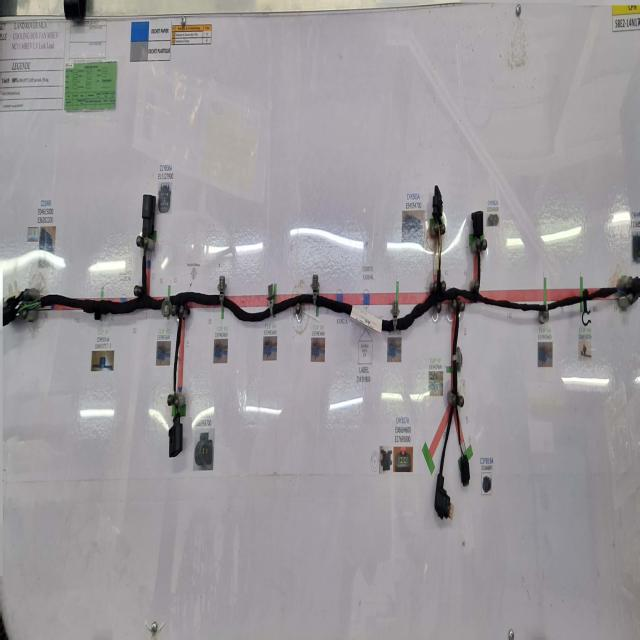Clip: (161, 287, 176, 320), (584, 293, 595, 337), (541, 274, 550, 323), (391, 286, 399, 336), (217, 274, 226, 317), (312, 277, 319, 320), (265, 285, 274, 318), (460, 354, 468, 380), (94, 312, 102, 322)
Connector: (0, 288, 31, 325), (435, 472, 454, 515), (141, 190, 155, 240), (169, 415, 184, 458), (433, 182, 443, 222), (458, 453, 469, 489), (472, 207, 484, 236), (631, 274, 640, 300)
Gape: (18, 294, 40, 318), (608, 283, 627, 302), (435, 231, 441, 284), (170, 393, 182, 418), (142, 242, 148, 265), (476, 277, 480, 295)
Info: (352, 303, 384, 329)
MHEV_N11_Cable: (38, 261, 601, 487)
